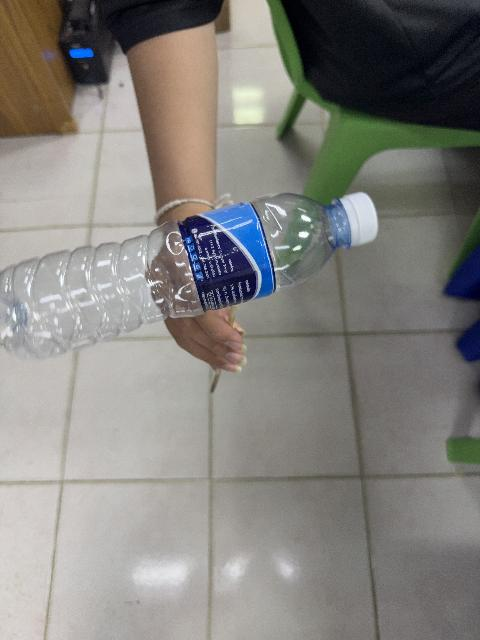bottle: (0, 194, 377, 357)
